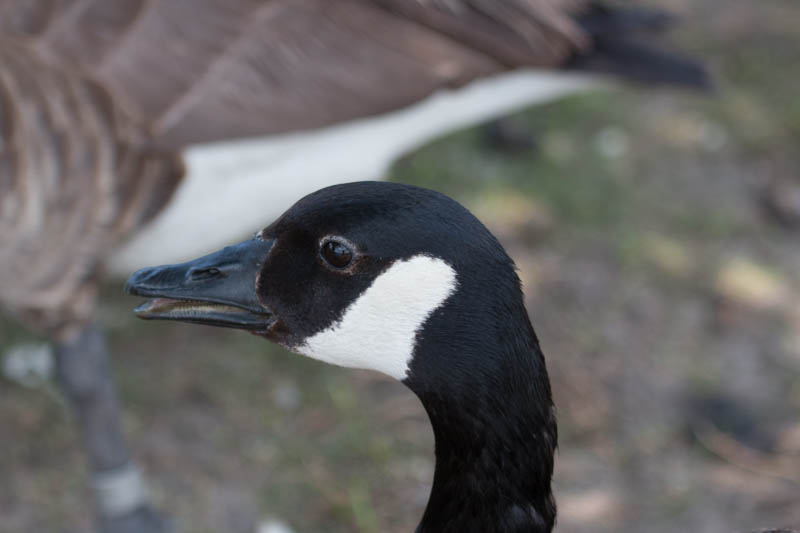goose-head: (124, 181, 545, 385)
